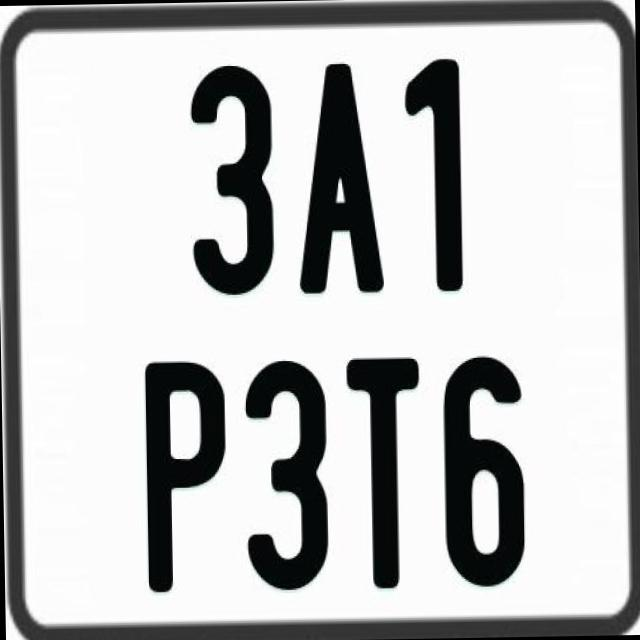1: (402, 55, 468, 295)
3: (240, 356, 332, 587), (187, 63, 276, 300)
6: (438, 353, 520, 590)
A: (295, 58, 385, 293)
P: (140, 359, 224, 590)
T: (344, 356, 428, 588)
